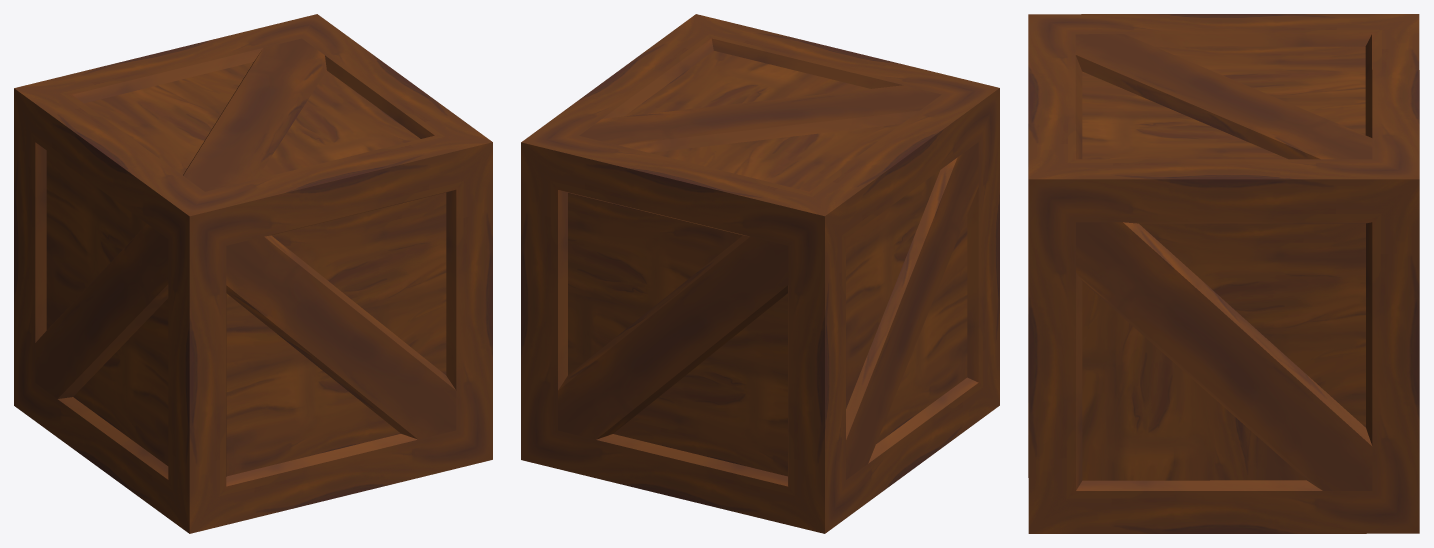
The model's file is Ton.FBX.
3 views of the same model, side by side, from view 1: azimuth 30°, elevation 25°; view 2: azimuth 150°, elevation 25°; view 3: azimuth 270°, elevation 25° (orthographic). The views are drawn at different scales.
Parts seen in each view (by area): view 1: StorigBox; view 2: StorigBox; view 3: StorigBox.
Part boxes in pixels (x1,y1,x2,y2): StorigBox: (14, 14, 492, 533); StorigBox: (521, 14, 999, 533); StorigBox: (1028, 14, 1419, 533).
Bounding box in the file's own units: 60.07 × 60 × 60.07.
Materials: 1 (1 with a texture image).
